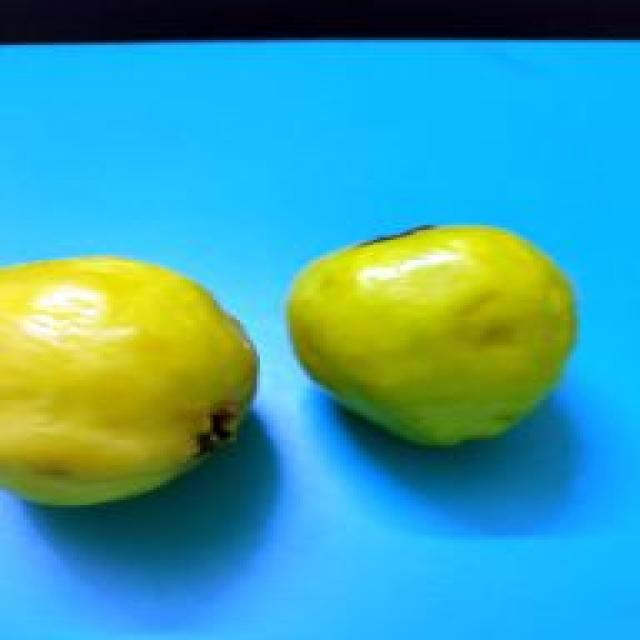Good_Guava: (283, 225, 580, 450), (0, 258, 260, 510)
